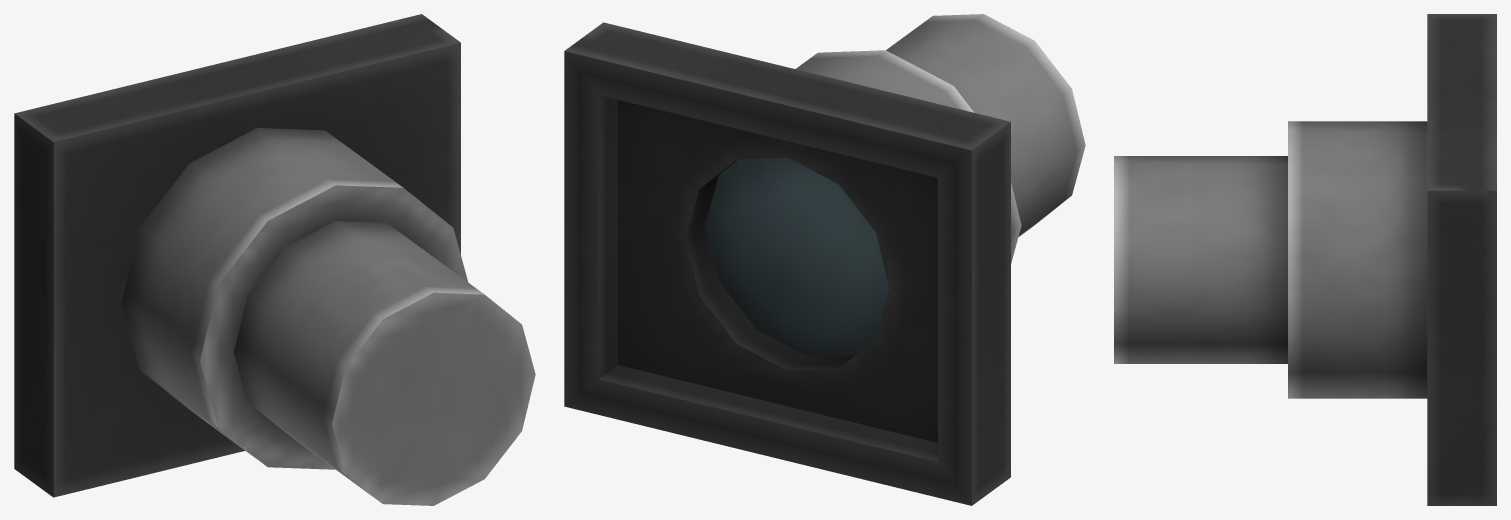
Rendered from cam2.obj.
The picture shows the model from 3 angles, left to right: view 1: azimuth 30°, elevation 25°; view 2: azimuth 150°, elevation 25°; view 3: azimuth 270°, elevation 25°; orthographic projection. The views are drawn at different scales.
Parts seen in each view (by area): view 1: 1; view 2: 1, w1; view 3: 1.
Part boxes in pixels (left/top/right/bottom): 1: left=14, top=14, right=535, bottom=505; 1: left=564, top=14, right=1085, bottom=505; w1: left=705, top=157, right=889, bottom=356; 1: left=1114, top=14, right=1496, bottom=505.
Bounding box in the file's own units: 0.15 × 0.125 × 0.1375.
2 materials, 2 textured.
